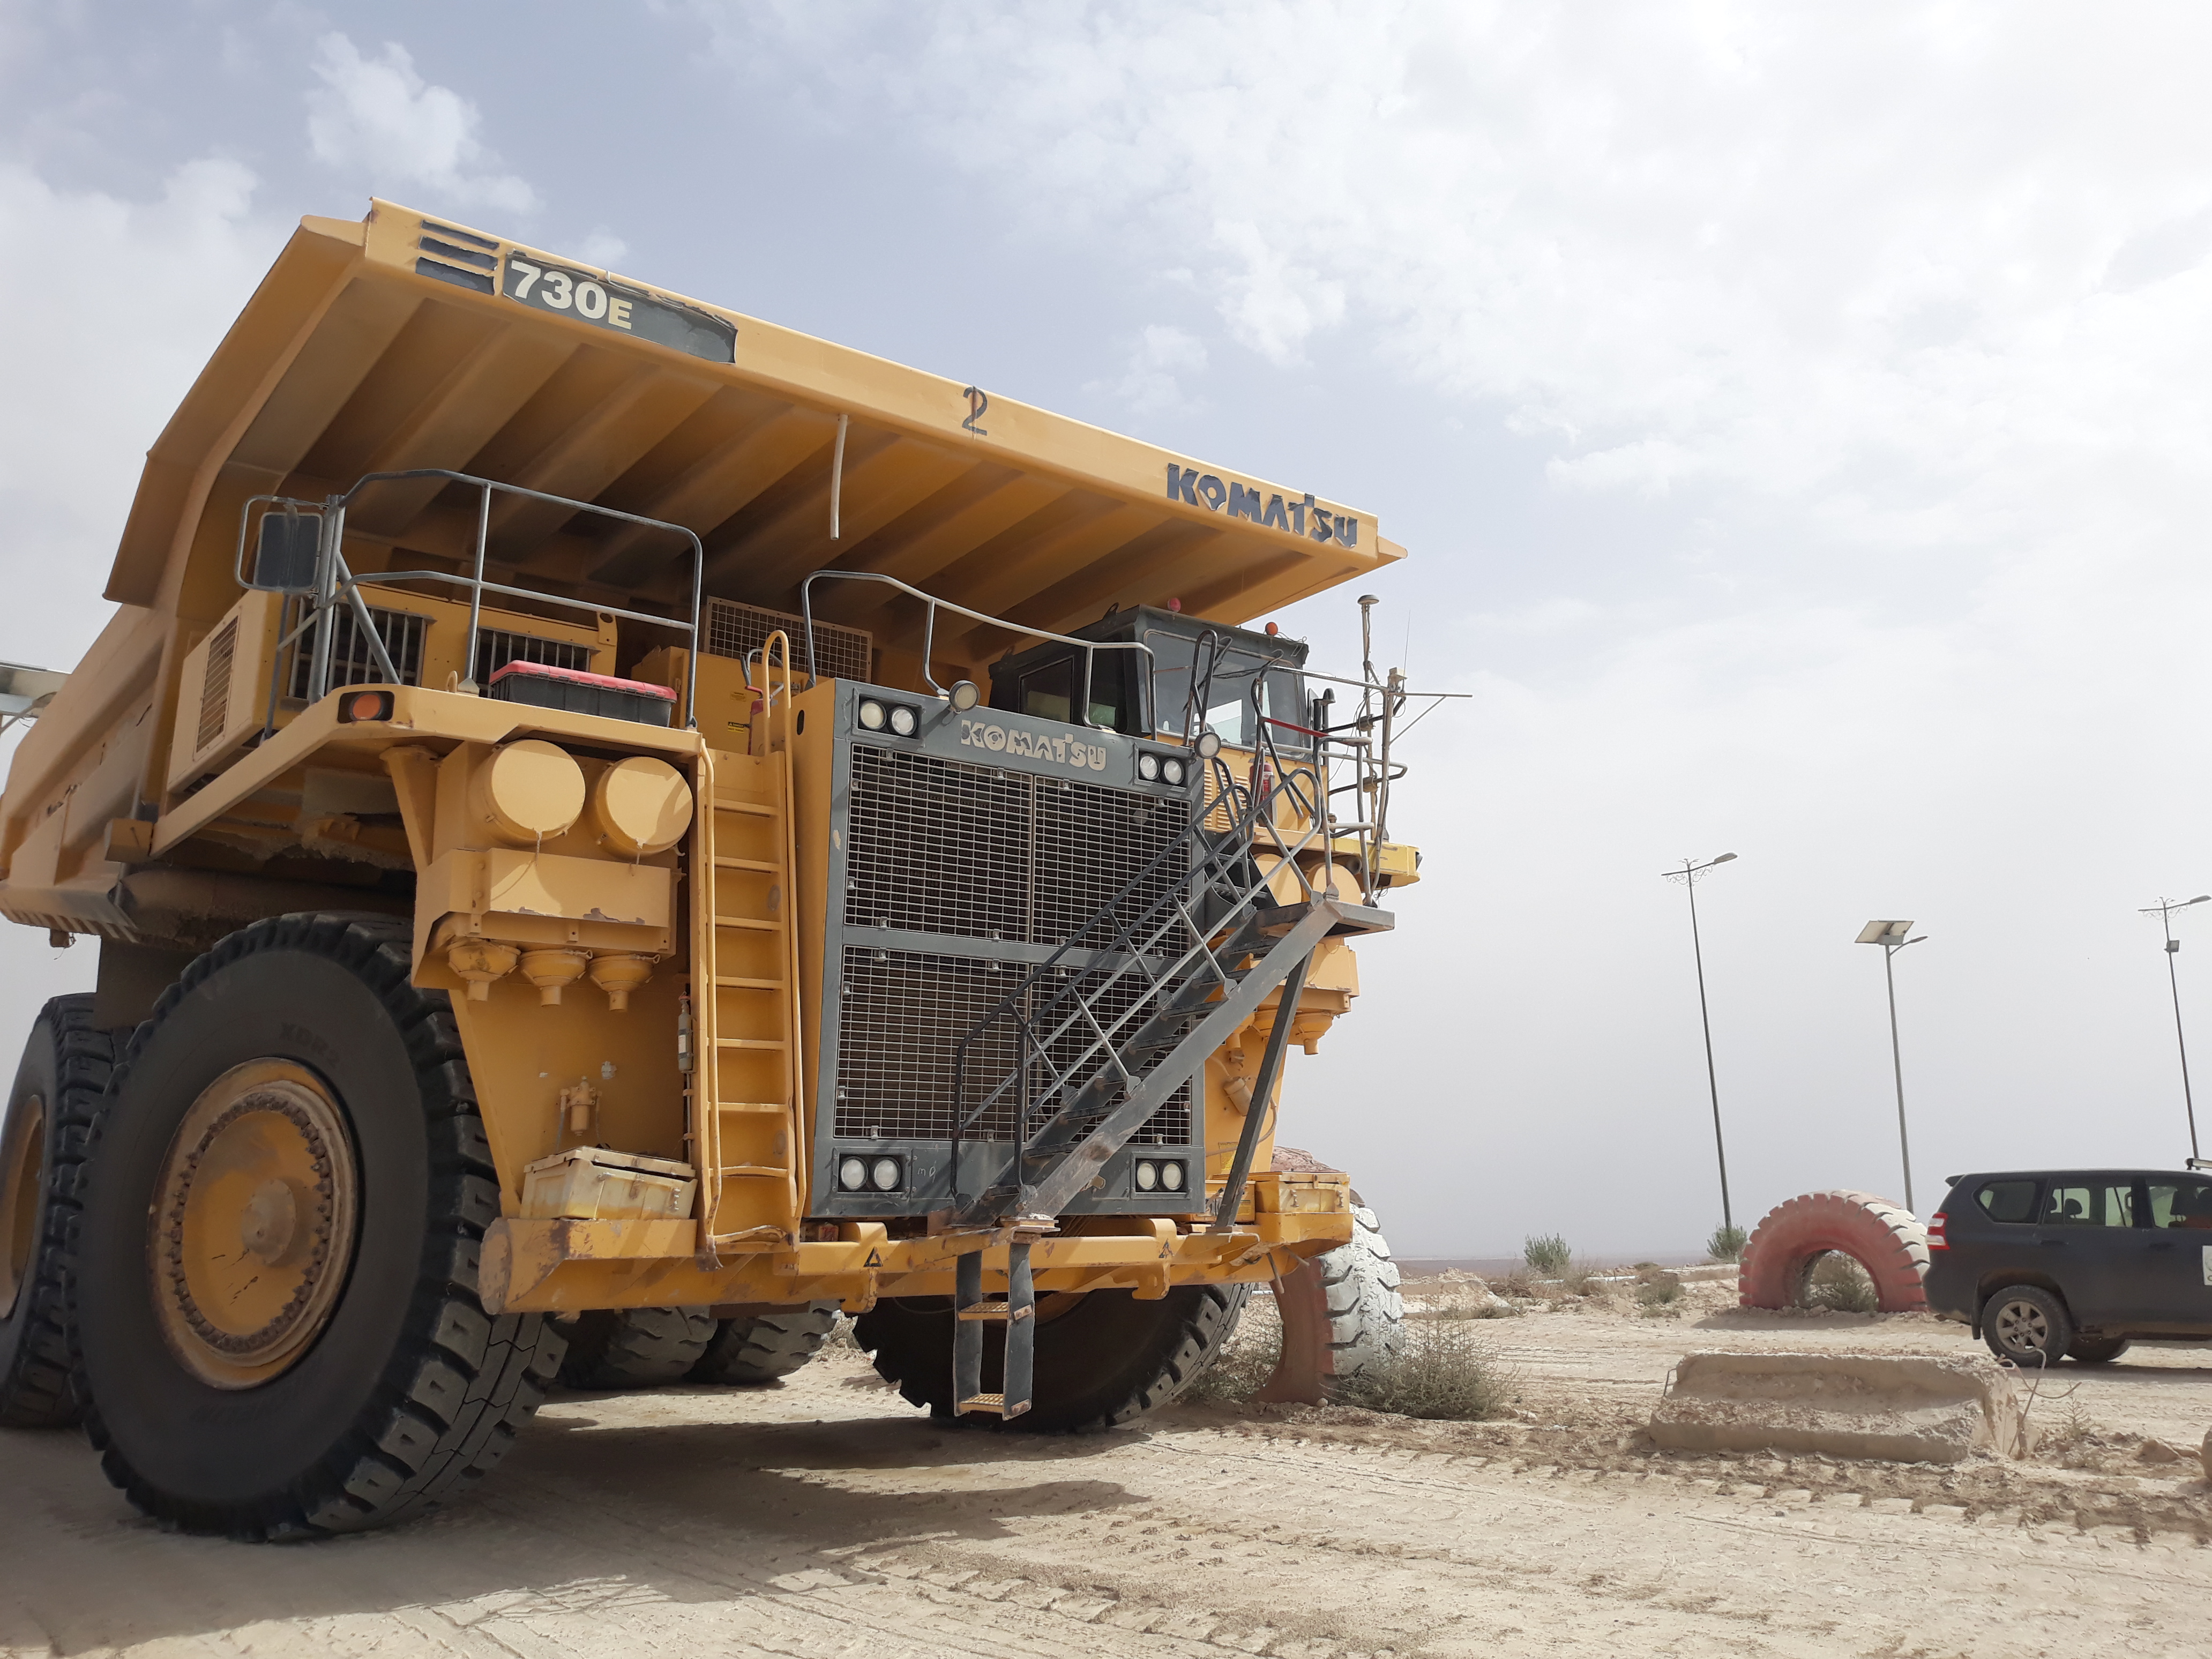camion: (2, 228, 1477, 1549)
car: (1909, 1134, 2212, 1392)
